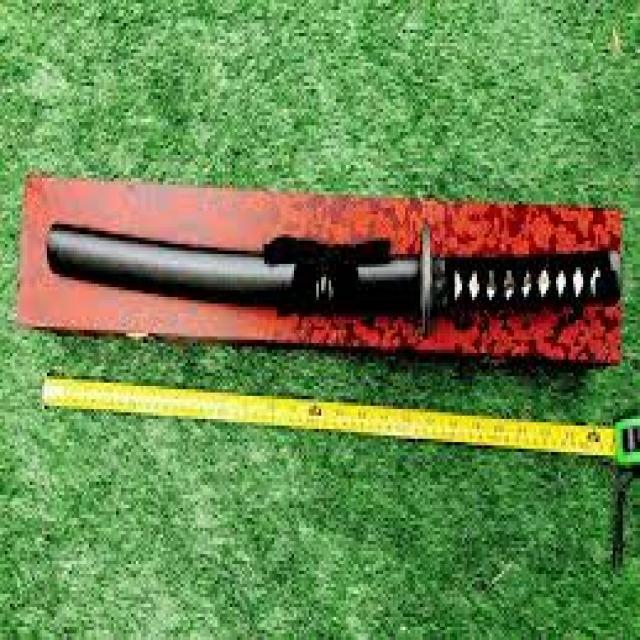long sword: (43, 213, 630, 324)
